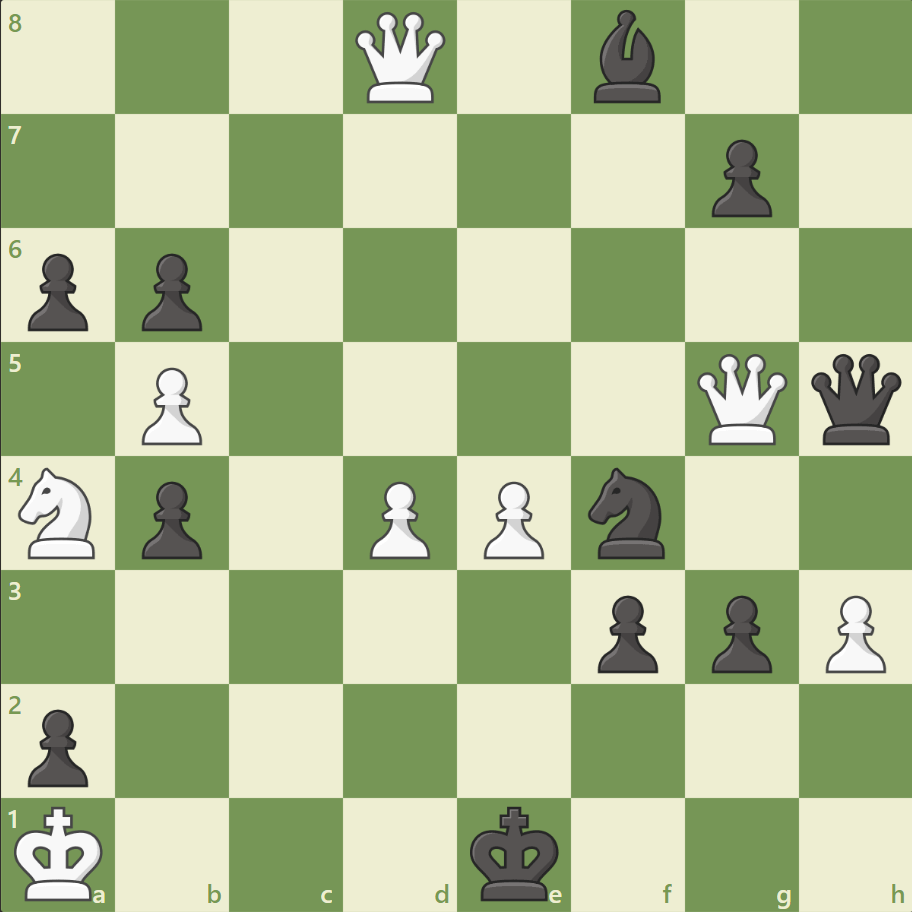K: (11, 798, 111, 906)
N: (11, 461, 108, 564)
P: (133, 359, 208, 450), (474, 473, 549, 564), (361, 473, 435, 564), (815, 586, 889, 677)
Q: (691, 349, 790, 449), (351, 9, 450, 108)
b: (585, 6, 669, 109)
k: (465, 798, 565, 906)
n: (579, 461, 676, 564)
p: (701, 132, 776, 223), (20, 246, 95, 337), (133, 246, 208, 337), (133, 473, 208, 564), (701, 586, 776, 677), (20, 700, 95, 791), (588, 586, 662, 677)
q: (805, 349, 904, 449)
